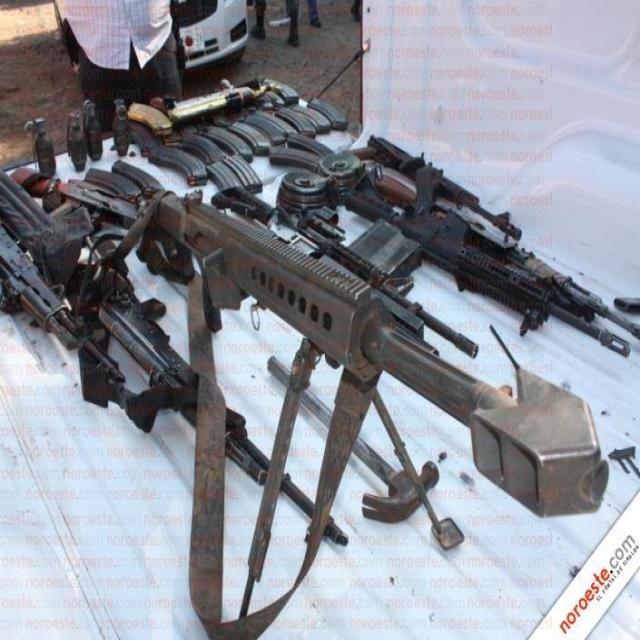firearm: (153, 191, 609, 515), (96, 276, 354, 549), (345, 167, 632, 356), (215, 185, 479, 359), (0, 230, 127, 386), (348, 134, 521, 242)
grenade: (22, 113, 61, 174), (64, 109, 88, 170), (108, 94, 130, 152), (86, 99, 100, 162)
knife: (12, 165, 140, 228)
